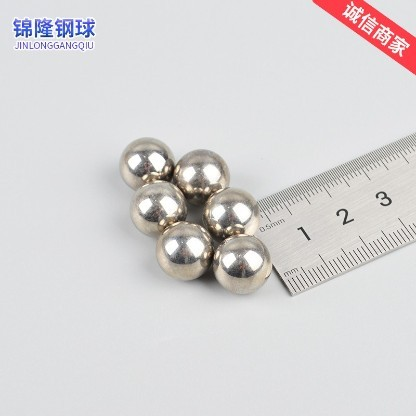ironball: (212, 233, 271, 294), (155, 220, 213, 280), (129, 179, 187, 237), (201, 186, 260, 242), (172, 148, 229, 204), (118, 136, 174, 190)
